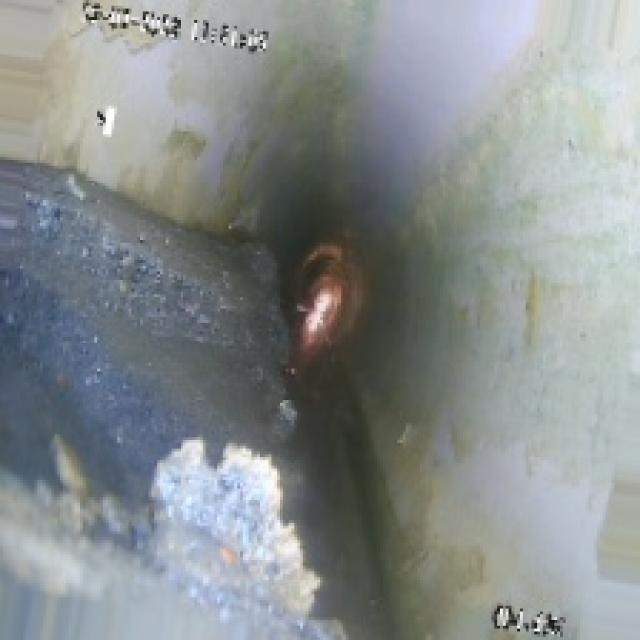sluge accumulation: (51, 212, 343, 637)
